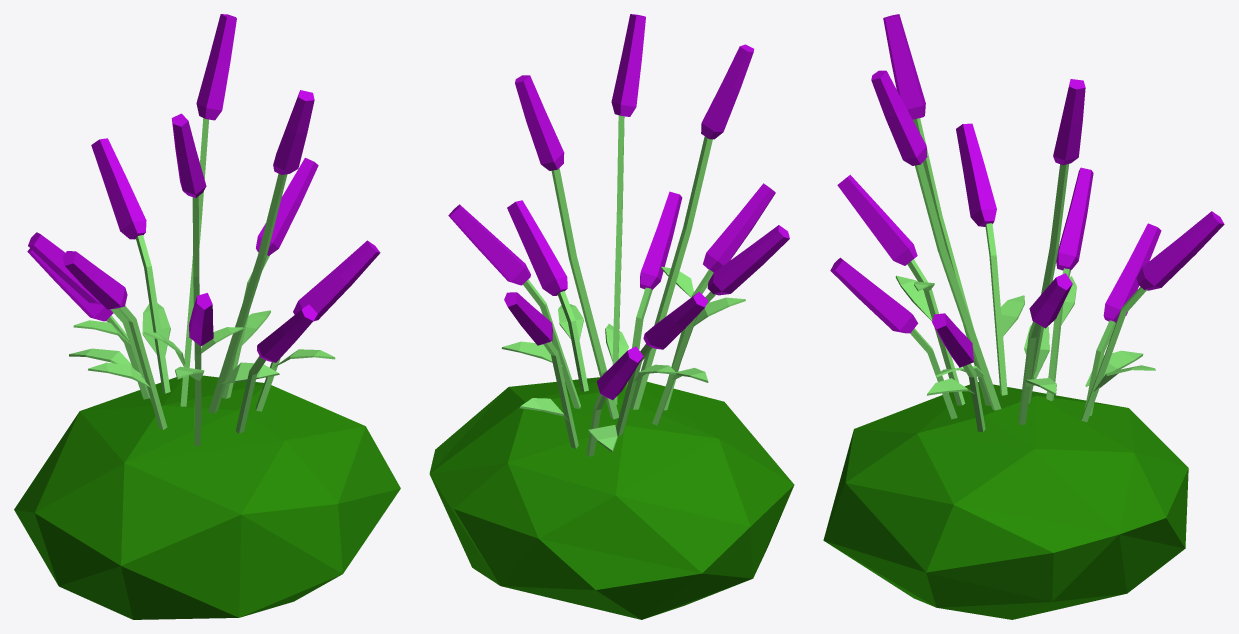
Rendered from lavender.fbx.
3 renders of one model, left to right at view 1: azimuth 30°, elevation 25°; view 2: azimuth 150°, elevation 25°; view 3: azimuth 270°, elevation 25°, orthographic. The views are drawn at different scales.
Visible parts, largest first — view 1: Lavender; view 2: Lavender; view 3: Lavender.
Part boxes in pixels (x1,y1,x2,y2): Lavender: (14,14,400,619); Lavender: (429,14,794,619); Lavender: (823,14,1224,619).
Size of the model in its own units: 2241 by 3584 by 2406.
